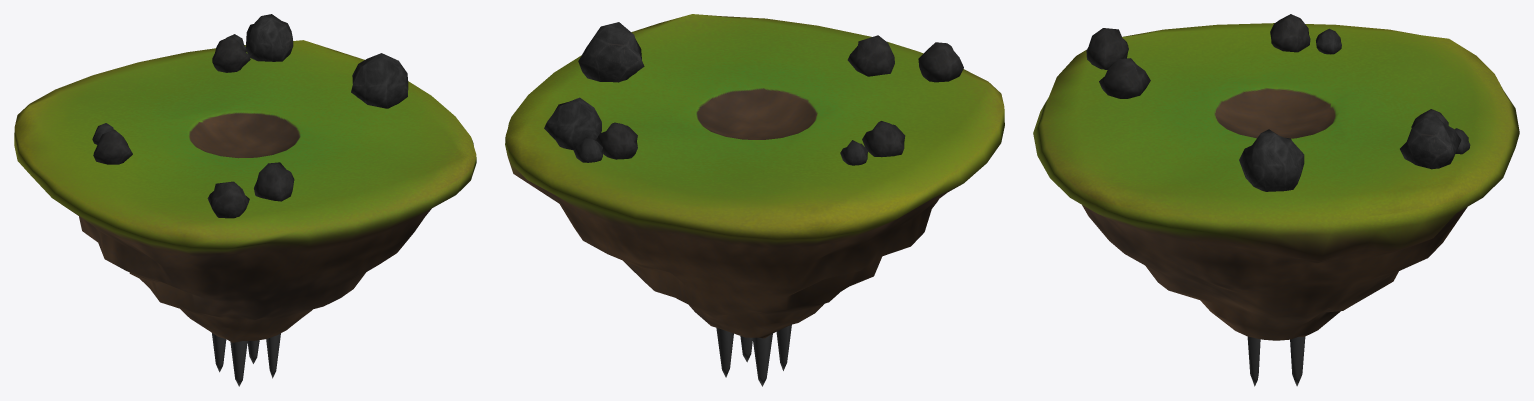
The model's file is Island.fbx.
3 views of the same model, side by side, from view 1: azimuth 30°, elevation 25°; view 2: azimuth 150°, elevation 25°; view 3: azimuth 270°, elevation 25° (orthographic). The views are drawn at different scales.
Visible parts, largest first — view 1: polySurface1, pCube12, pCube11, pCube9, pCube10, pCube5, pCube6; view 2: polySurface1, pCube12, pCube11, pCube9, pCube10, pCube6, pCube5, pCube4, pCube7; view 3: polySurface1, pCube12, pCube11, pCube9, pCube10, pCube6, pCube7.
Part boxes in pixels (x1,y1,x2,y2): polySurface1: (14, 40, 476, 386); pCube12: (351, 53, 408, 108); pCube11: (246, 14, 293, 61); pCube9: (254, 162, 294, 201); pCube10: (207, 181, 249, 218); pCube5: (212, 36, 250, 72); pCube6: (93, 129, 132, 164); polySurface1: (505, 14, 1004, 386); pCube12: (578, 22, 644, 82); pCube11: (544, 97, 601, 150); pCube9: (847, 35, 894, 76); pCube10: (918, 42, 963, 82); pCube6: (862, 121, 905, 157); pCube5: (595, 122, 637, 159); pCube4: (573, 137, 602, 162); pCube7: (840, 140, 868, 165); polySurface1: (1033, 23, 1519, 386); pCube12: (1239, 129, 1304, 191); pCube11: (1400, 115, 1461, 169); pCube9: (1099, 58, 1150, 98); pCube10: (1086, 28, 1128, 69); pCube6: (1270, 14, 1310, 52); pCube7: (1316, 28, 1341, 54).
Bounding box in the file's own units: 73.71 × 52.57 × 73.42.
Materials: 1 (1 with a texture image).
